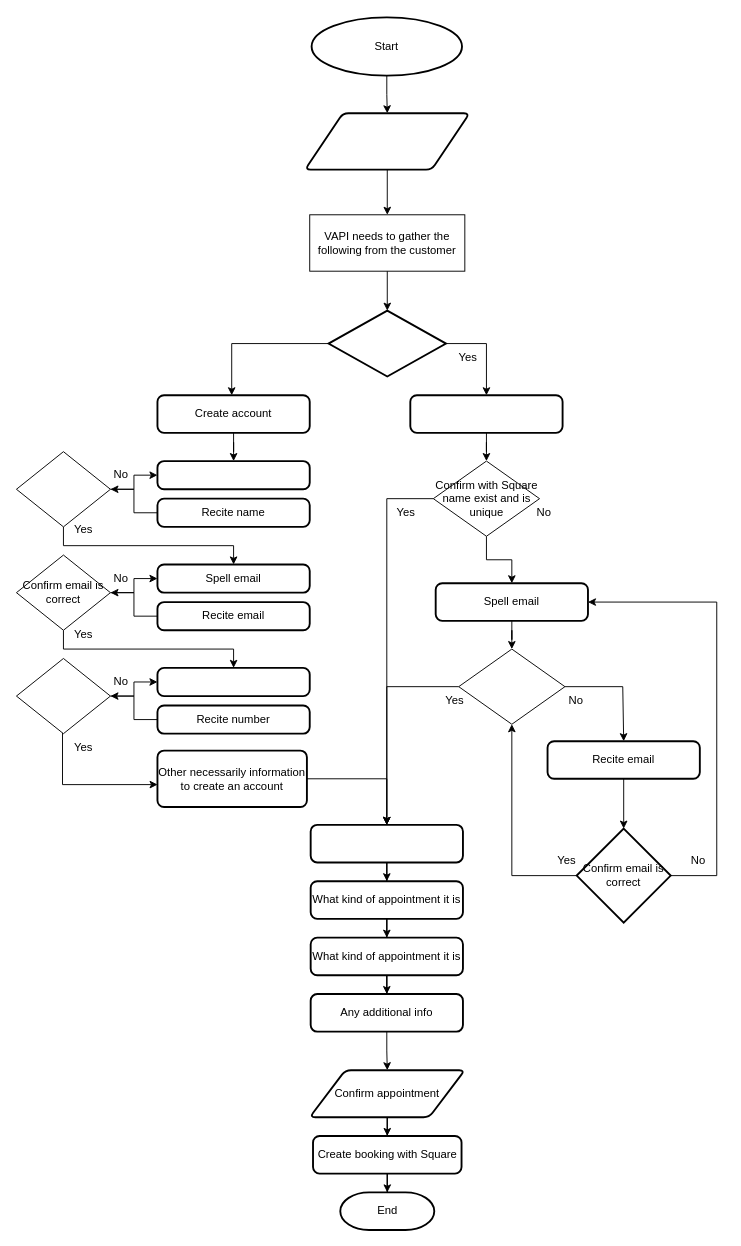
Image size: 741x1246. Some labels were removed from this diagram. Each missing label, with the box of its shape:
Caller makes contact with VAPI: (304, 112, 470, 170)
Confirm name is correct: (16, 451, 110, 527)
Confirm number is correct: (16, 658, 110, 734)
Confirm with Square email exist: (458, 648, 565, 724)
Do you have an account?: (327, 309, 446, 377)
Spell name: (156, 460, 310, 490)
Spell number: (156, 666, 310, 697)
When the appointment is: (309, 823, 463, 863)
Who the appiointment is for: (409, 394, 563, 433)
